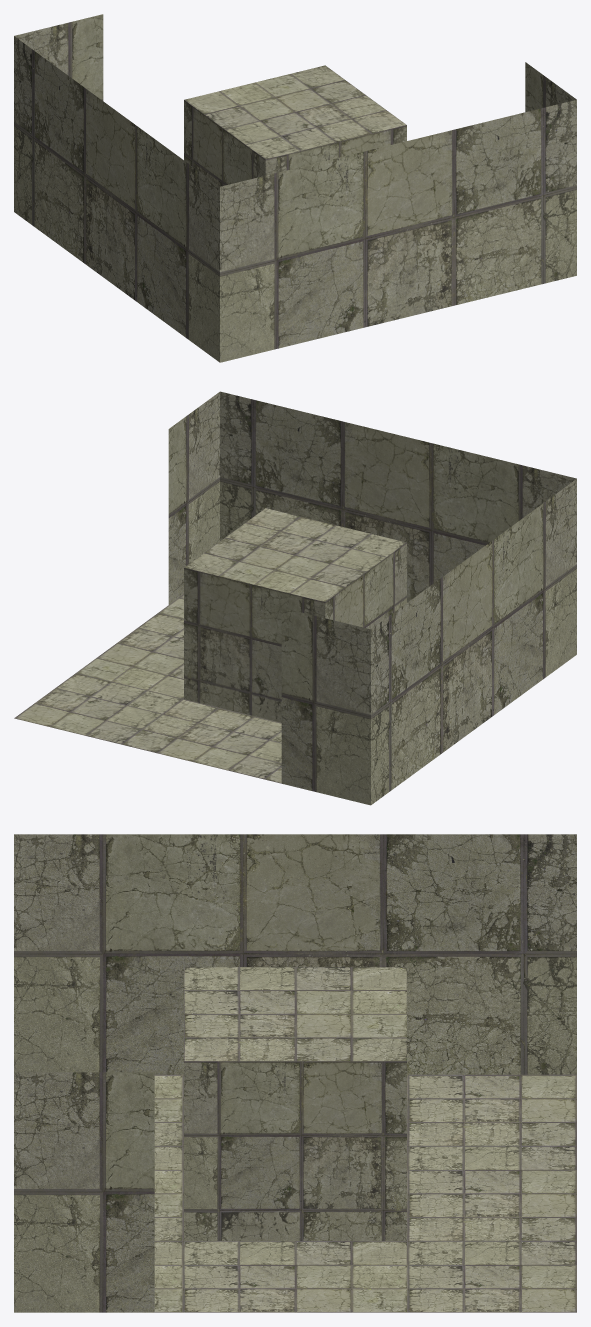
Rendered from SM_NeoLD_04_Block_00.fbx.
The picture shows the model from 3 angles, top to bottom: view 1: azimuth 30°, elevation 25°; view 2: azimuth 150°, elevation 25°; view 3: azimuth 270°, elevation 25°; orthographic projection. The views are drawn at different scales.
Visible parts, largest first — view 1: SM_NeoLD_04_Block_00; view 2: SM_NeoLD_04_Block_00; view 3: SM_NeoLD_04_Block_00.
Boxes of the visible parts, x1,y1,x2,y2 form: SM_NeoLD_04_Block_00: (14, 14, 576, 362); SM_NeoLD_04_Block_00: (14, 391, 576, 805); SM_NeoLD_04_Block_00: (14, 834, 576, 1312).
Size of the model in its own units: 1088 by 513 by 1088.
